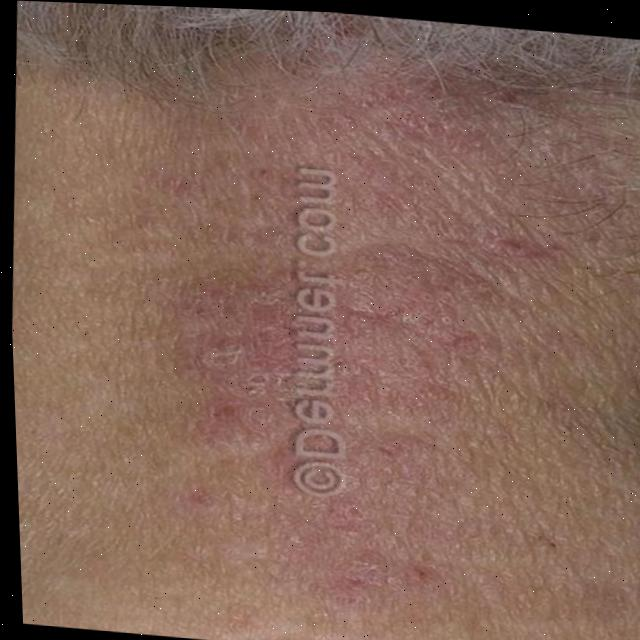Eczema: (145, 53, 568, 605)
